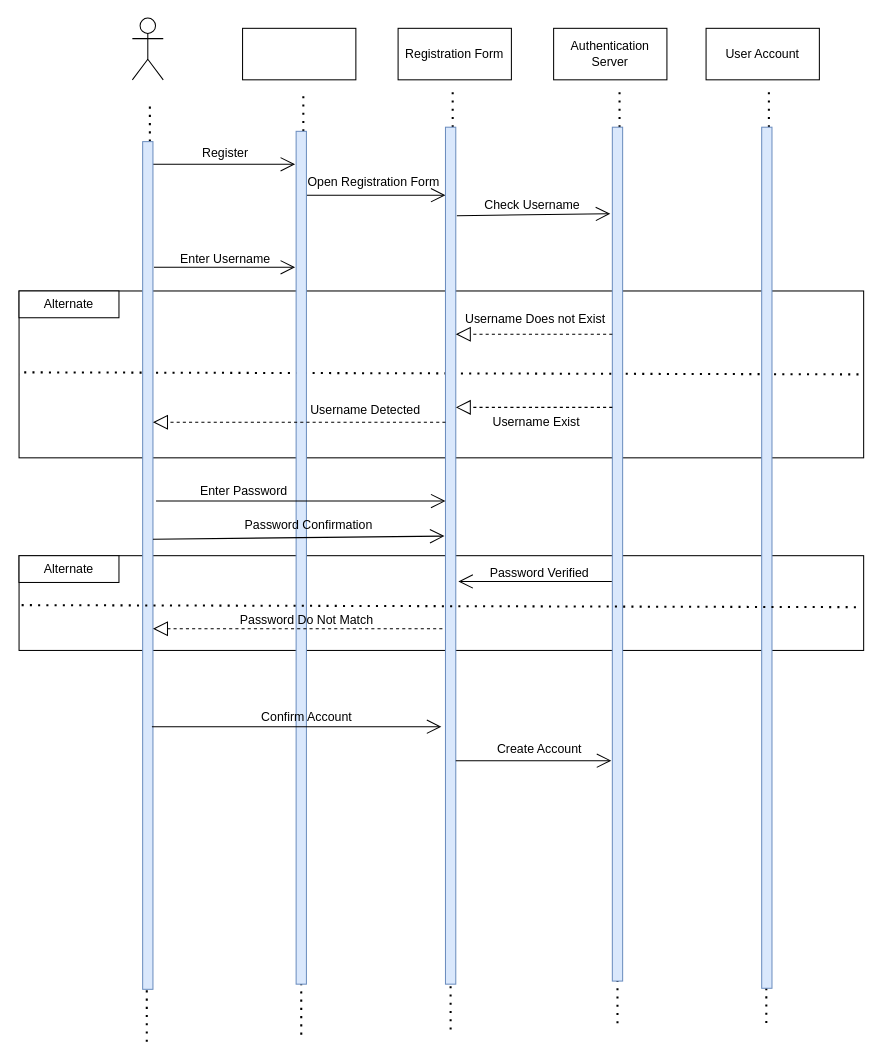
Image size: 883x1062. Some labels were removed from this diagram. The centre of each missing label's shape, as x and y in pixels:
"User" belongs at (x=147, y=48).
"Welcome Page" belongs at (x=299, y=53).
